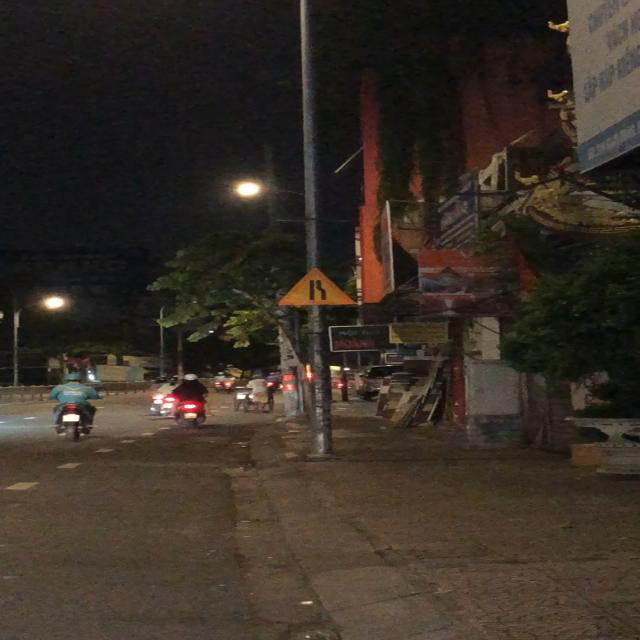Bien bao duong bi thu hep: (276, 267, 356, 305)
